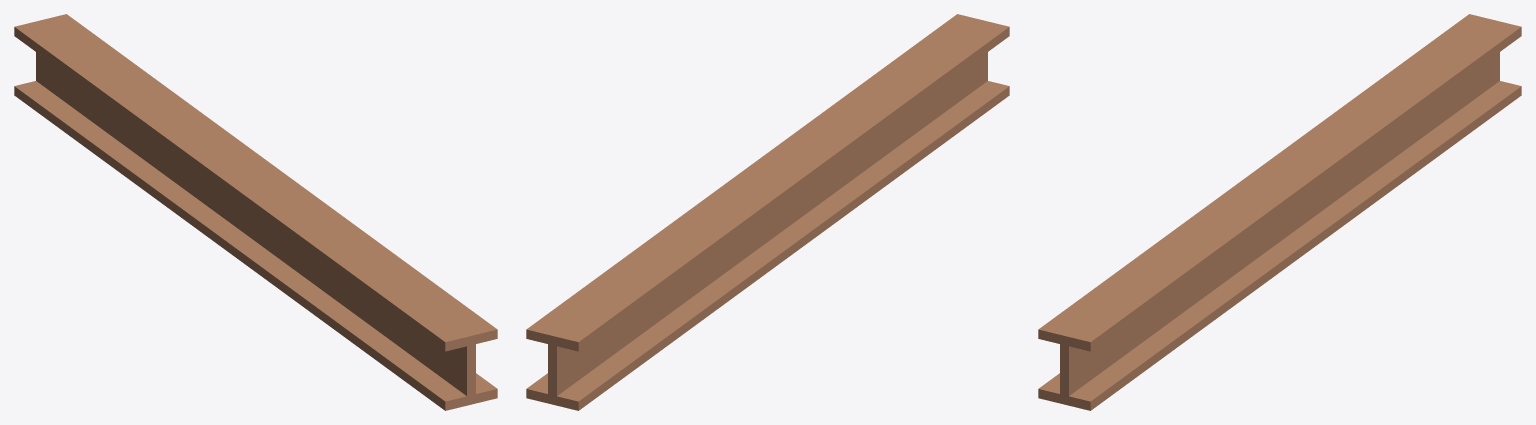
The model's file is steel_beam.glb.
The picture shows the model from 3 angles, left to right: view 1: azimuth 30°, elevation 25°; view 2: azimuth 150°, elevation 25°; view 3: azimuth 330°, elevation 25°; orthographic projection.
Visible parts, largest first — view 1: steel_beam; view 2: steel_beam; view 3: steel_beam.
Boxes of the visible parts, <box> form: steel_beam: <box>14,14,497,410</box>; steel_beam: <box>526,14,1009,410</box>; steel_beam: <box>1038,14,1521,410</box>.
Bounding box in the file's own units: 0.35 × 0.44 × 5.
